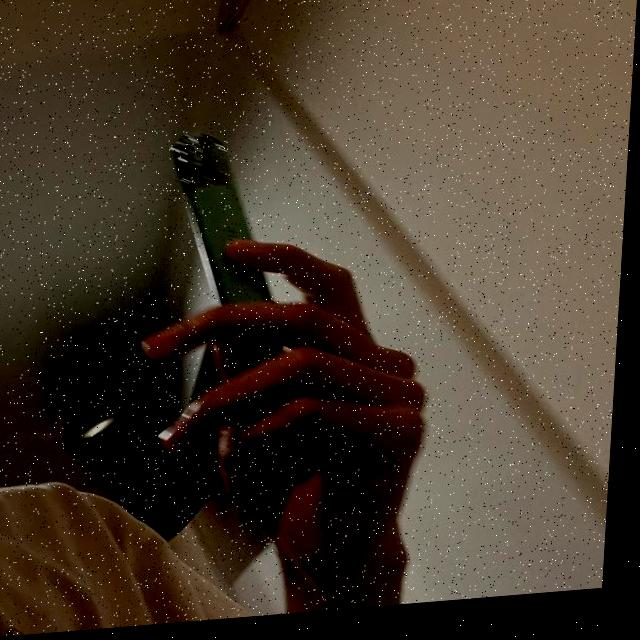vape: (162, 123, 299, 369)
